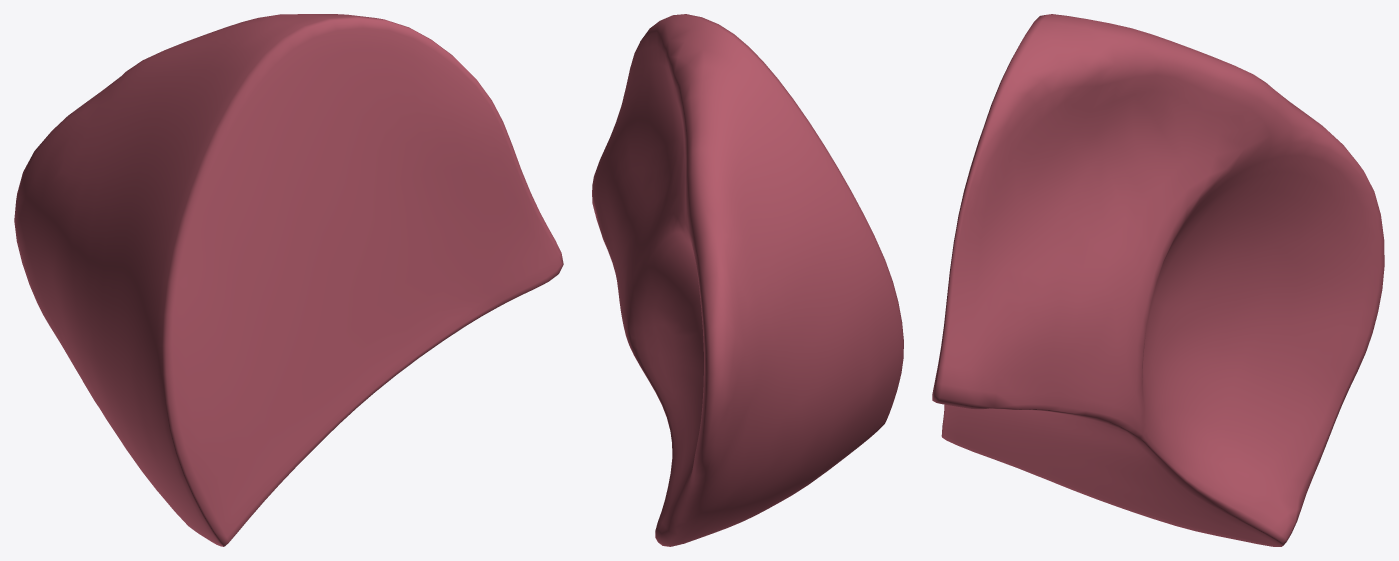
3 views of the same model, side by side, from view 1: azimuth 30°, elevation 25°; view 2: azimuth 150°, elevation 25°; view 3: azimuth 270°, elevation 25° (orthographic). The views are drawn at different scales.
Parts seen in each view (by area): view 1: 肝右后叶下段（第6段）; view 2: 肝右后叶下段（第6段）; view 3: 肝右后叶下段（第6段）.
Boxes of the visible parts, bbox=[...] form: 肝右后叶下段（第6段）: bbox=[14, 14, 563, 546]; 肝右后叶下段（第6段）: bbox=[592, 14, 903, 546]; 肝右后叶下段（第6段）: bbox=[932, 14, 1384, 546].
Bounding box in the file's own units: 0.1331 × 0.1739 × 0.1285.
